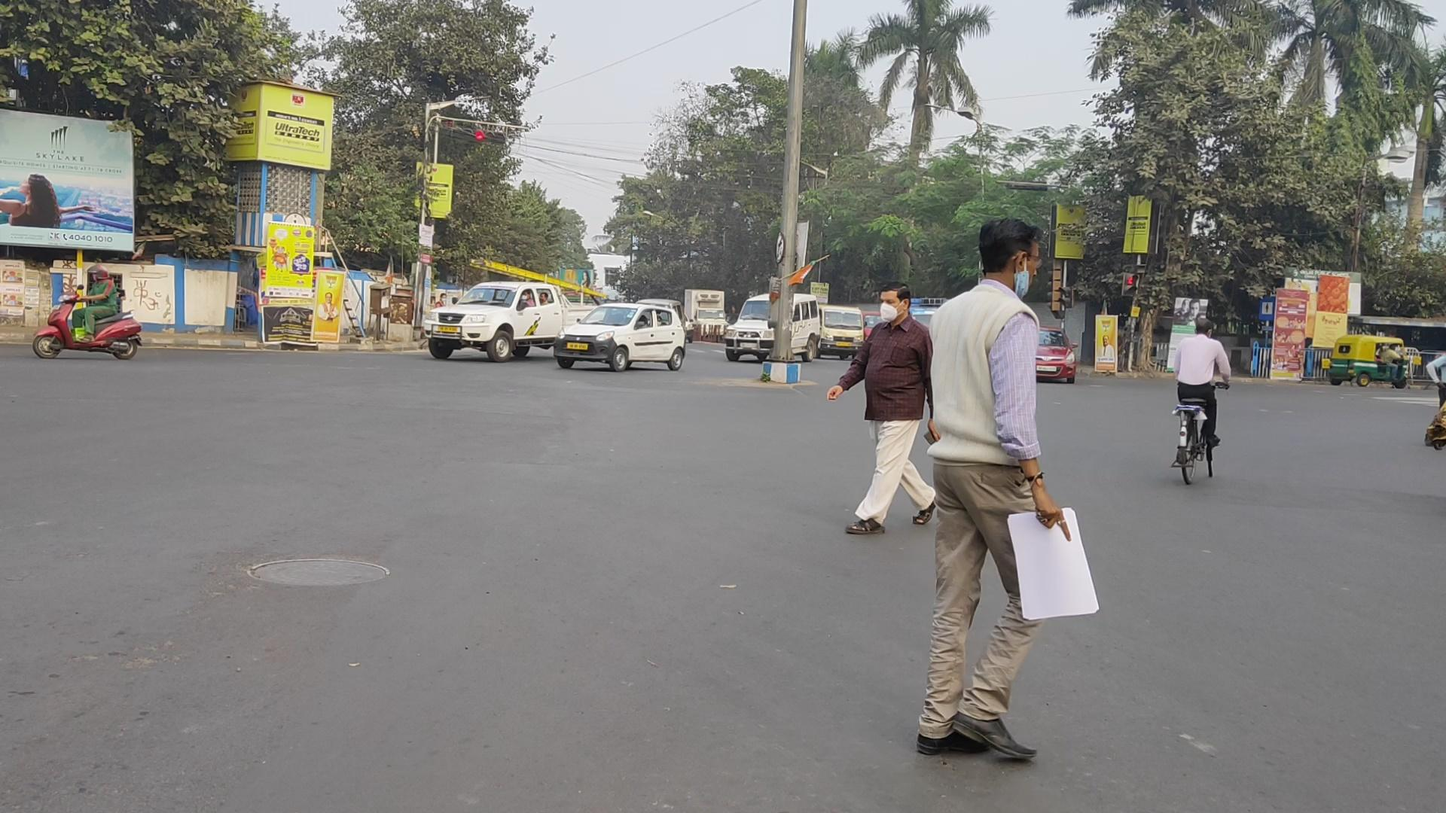Auto: (1327, 333, 1411, 388)
bike: (32, 264, 143, 361), (1170, 318, 1231, 485)
car: (554, 302, 688, 373), (725, 291, 821, 364), (1030, 325, 1078, 385)
van: (424, 280, 607, 364), (818, 305, 865, 363), (685, 288, 728, 345)
